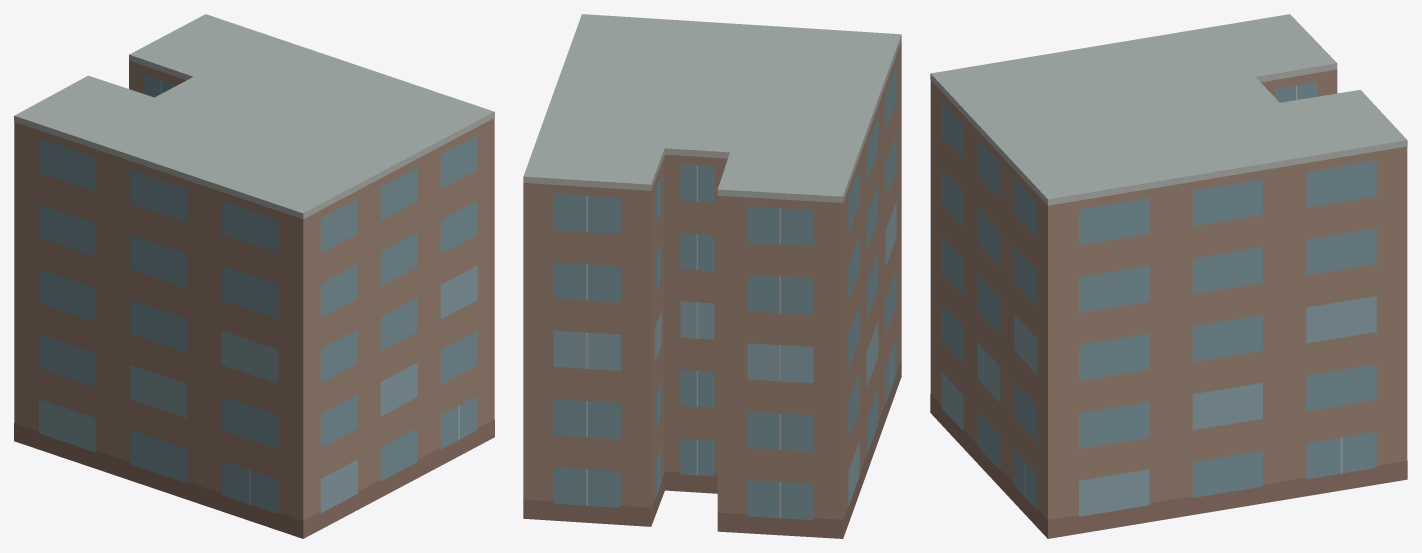
File: survey-upis-32952217.glb
3 views of the same model, side by side, from view 1: azimuth 30°, elevation 25°; view 2: azimuth 150°, elevation 25°; view 3: azimuth 270°, elevation 25° (orthographic). The views are drawn at different scales.
Parts seen in each view (by area): view 1: survey-upis-32952217.tmp; view 2: survey-upis-32952217.tmp; view 3: survey-upis-32952217.tmp.
Boxes of the visible parts, x1,y1,x2,y2 form: survey-upis-32952217.tmp: (14,14,494,538); survey-upis-32952217.tmp: (523,14,901,538); survey-upis-32952217.tmp: (930,14,1407,538).
Size of the model in its own units: 15.6 by 13.3 by 16.95.
